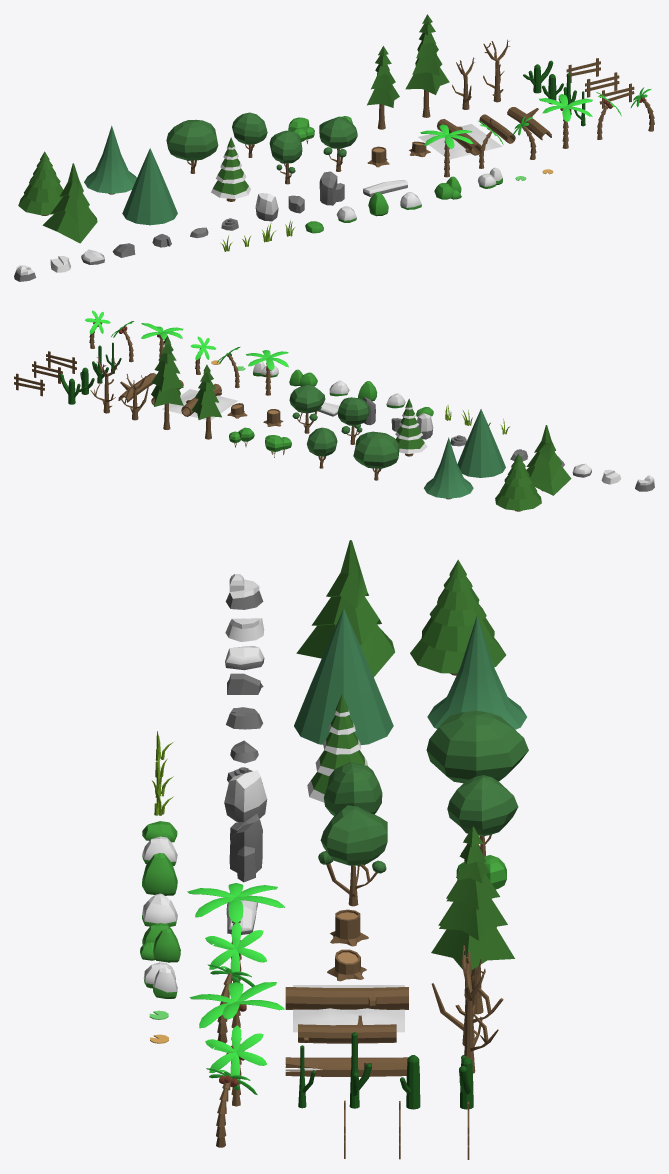
Rendered from foliage.fbx.
3 renders of one model, top to bottom at view 1: azimuth 30°, elevation 25°; view 2: azimuth 150°, elevation 25°; view 3: azimuth 270°, elevation 25°, orthographic. The views are drawn at different scales.
Parts seen in each view (by area): view 1: Pine_1, spruce_2, long_spruce_2, oak_1, pine_2, spruce_1, spruce_snow, oak_4, long_spruce_1, oak_2, oak_3, snow_tile (+12 smaller); view 2: Pine_1, spruce_2, spruce_1, long_spruce_2, oak_1, pine_2, oak_4, spruce_snow, long_spruce_1, oak_2, oak_3, snow_tile (+12 smaller); view 3: Pine_1, long_spruce_2, oak_1, spruce_1, spruce_2, pine_2, oak_4, oak_3, trunk_empty, spruce_snow, oak_2, snow_tile (+17 smaller).
Boxes of the visible parts, x1,y1,x2,y2 form: Pine_1: (122,148,177,225); spruce_2: (42,163,97,243); long_spruce_2: (405,14,449,117); oak_1: (166,119,218,173); pine_2: (84,125,136,194); spruce_1: (18,151,63,215); spruce_snow: (211,137,250,201); oak_4: (319,117,357,171); long_spruce_1: (367,46,399,129); oak_2: (269,130,302,184); oak_3: (232,112,267,157); snow_tile: (418,124,502,159); Pine_1: (457,409,505,477); spruce_2: (526,425,571,495); spruce_1: (495,453,541,511); long_spruce_2: (151,336,183,429); oak_1: (353,431,399,480); pine_2: (424,437,473,499); oak_4: (289,384,325,433); spruce_snow: (395,398,427,456); long_spruce_1: (192,364,221,439); oak_2: (337,397,369,444); oak_3: (307,427,337,468); snow_tile: (162,389,237,420); Pine_1: (294,608,393,745); long_spruce_2: (431,827,514,1014); oak_1: (426,710,528,783); spruce_1: (410,559,505,675); spruce_2: (296,540,394,677); pine_2: (427,615,526,729); oak_4: (318,805,387,906); oak_3: (447,775,518,856); trunk_empty: (285,987,408,1009); spruce_snow: (307,694,367,802); oak_2: (324,762,382,815); snow_tile: (293,985,404,1032).
Size of the model in its own units: 1058 by 162 by 306.
